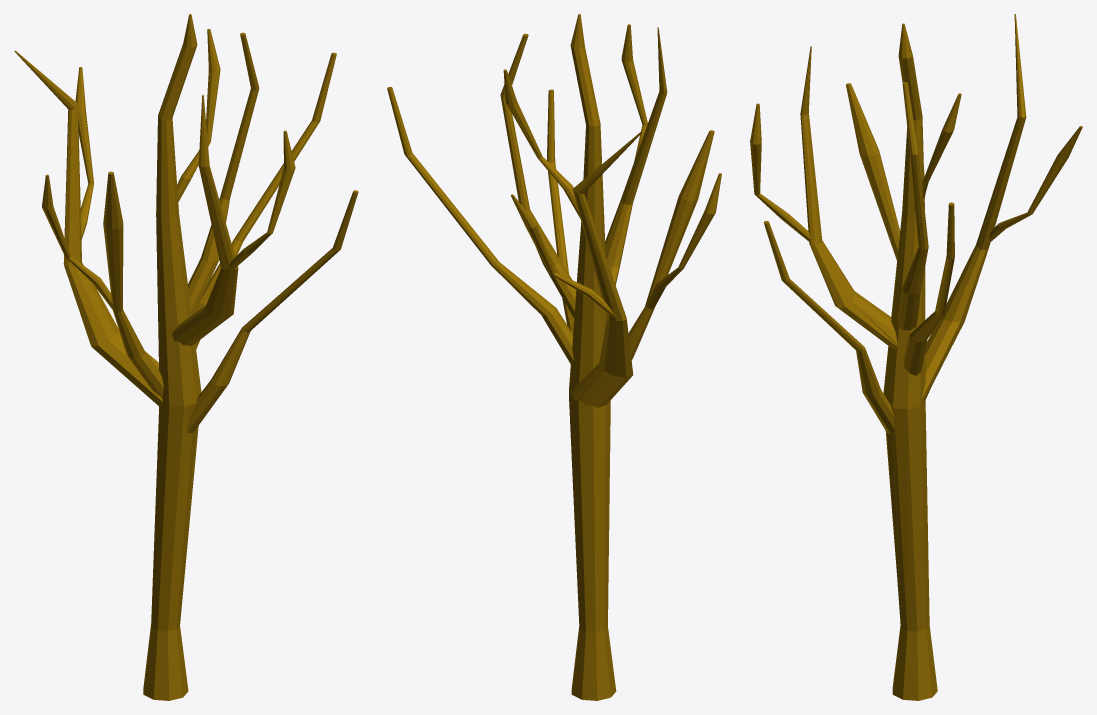
File: Vegetation_Modular_Tree_Trunk_Common_24.fbx
3 renders of one model, left to right at view 1: azimuth 30°, elevation 25°; view 2: azimuth 150°, elevation 25°; view 3: azimuth 270°, elevation 25°, orthographic.
Visible parts, largest first — view 1: Vegetation_Modular_Tree_Trunk_Common_24; view 2: Vegetation_Modular_Tree_Trunk_Common_24; view 3: Vegetation_Modular_Tree_Trunk_Common_24.
Part boxes in pixels (x1,y1,x2,y2): Vegetation_Modular_Tree_Trunk_Common_24: [14, 14, 358, 700]; Vegetation_Modular_Tree_Trunk_Common_24: [387, 14, 721, 700]; Vegetation_Modular_Tree_Trunk_Common_24: [750, 14, 1082, 700].
Bounding box in the file's own units: 2220 × 4563 × 2033.
